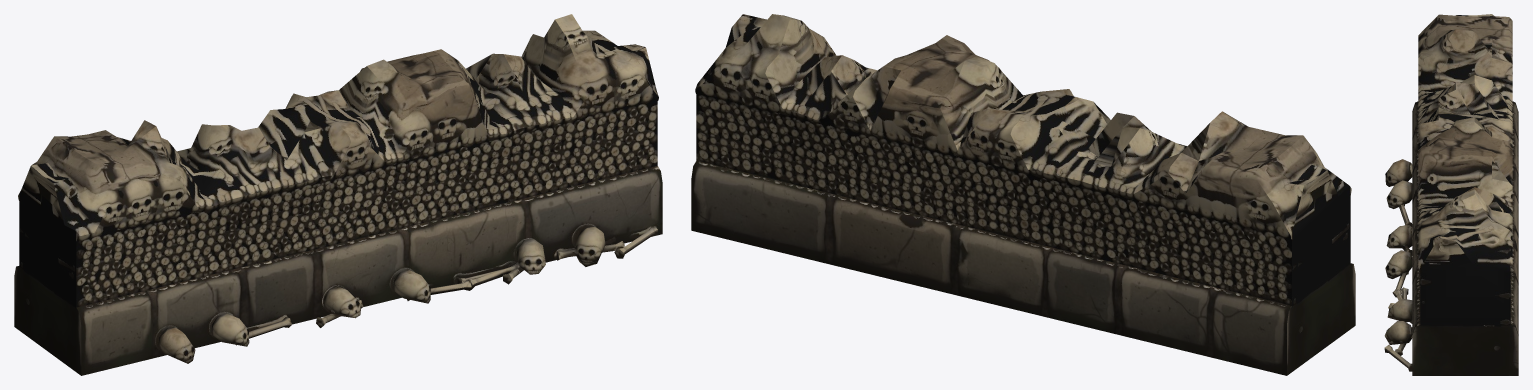
Rendered from catacomb_wall_low.glb.
3 views of the same model, side by side, from view 1: azimuth 30°, elevation 25°; view 2: azimuth 150°, elevation 25°; view 3: azimuth 270°, elevation 25° (orthographic). The views are drawn at different scales.
Parts seen in each view (by area): view 1: catacomb_wall_low; view 2: catacomb_wall_low; view 3: catacomb_wall_low.
Part boxes in pixels (x1,y1,x2,y2): catacomb_wall_low: [14, 14, 662, 375]; catacomb_wall_low: [691, 14, 1355, 375]; catacomb_wall_low: [1384, 14, 1518, 375].
Bounding box in the file's own units: 4 × 1.35 × 1.01.
1 material, 1 textured.
